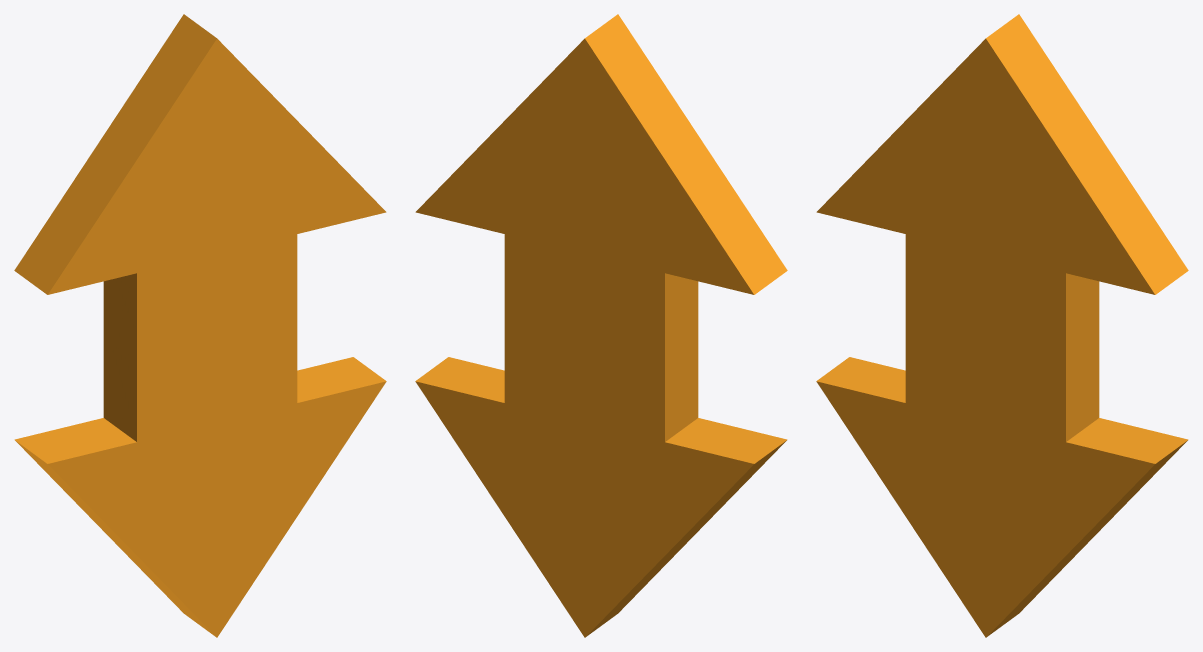
The model's file is SM_Icon_Arrow_Small_UpDown_01.fbx.
3 renders of one model, left to right at view 1: azimuth 30°, elevation 25°; view 2: azimuth 150°, elevation 25°; view 3: azimuth 330°, elevation 25°, orthographic.
Parts seen in each view (by area): view 1: SM_Icon_Arrow_Small_UpDown_01; view 2: SM_Icon_Arrow_Small_UpDown_01; view 3: SM_Icon_Arrow_Small_UpDown_01.
Boxes of the visible parts, x1,y1,x2,y2 form: SM_Icon_Arrow_Small_UpDown_01: (14,14,386,637); SM_Icon_Arrow_Small_UpDown_01: (415,14,787,637); SM_Icon_Arrow_Small_UpDown_01: (816,14,1188,637).
Bounding box in the file's own units: 45.28 × 76.49 × 7.71.
